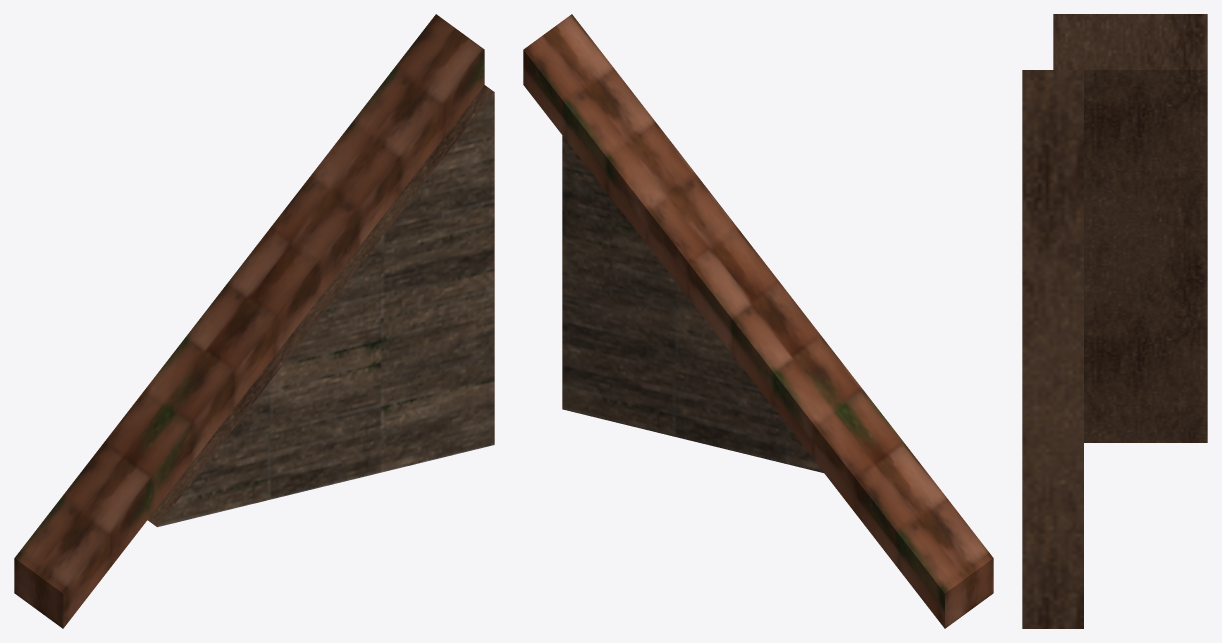
The model's file is roof_L.glb.
The picture shows the model from 3 angles, left to right: view 1: azimuth 30°, elevation 25°; view 2: azimuth 150°, elevation 25°; view 3: azimuth 270°, elevation 25°; orthographic projection. The views are drawn at different scales.
Parts seen in each view (by area): view 1: roof_01_L; view 2: roof_01_L; view 3: roof_01_L.
Boxes of the visible parts, x1=… form: roof_01_L: x1=14, y1=14, x2=494, y2=628; roof_01_L: x1=523, y1=14, x2=993, y2=628; roof_01_L: x1=1022, y1=14, x2=1207, y2=628.
Bounding box in the file's own units: 2.5 × 2.7 × 0.6.
1 material, 1 textured.
